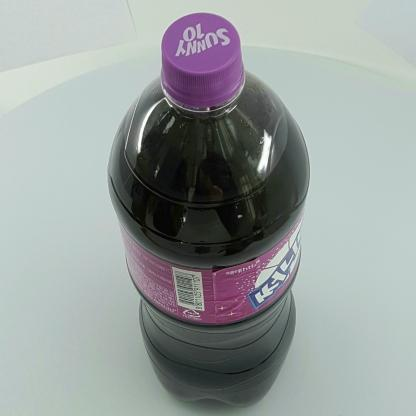-----------1-5L: (107, 12, 310, 408)
